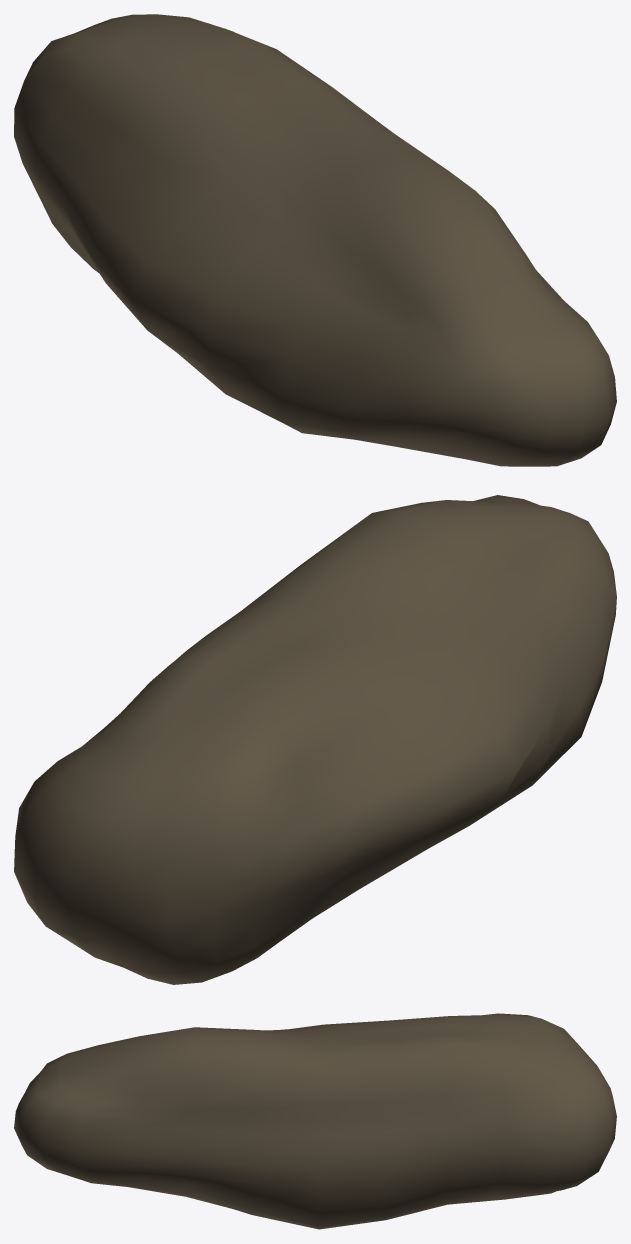
File: AsteroidTexture3.fbx
3 views of the same model, one above another, from view 1: azimuth 30°, elevation 25°; view 2: azimuth 150°, elevation 25°; view 3: azimuth 270°, elevation 25° (orthographic). The views are drawn at different scales.
Visible parts, largest first — view 1: SmallAsteroid; view 2: SmallAsteroid; view 3: SmallAsteroid.
Boxes of the visible parts, x1,y1,x2,y2 form: SmallAsteroid: (14,14,616,466); SmallAsteroid: (14,495,616,984); SmallAsteroid: (14,1013,616,1229).
Bounding box in the file's own units: 66.99 × 56.24 × 168.
